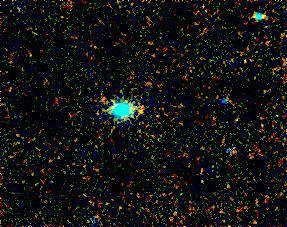star: (124, 94, 154, 124)
